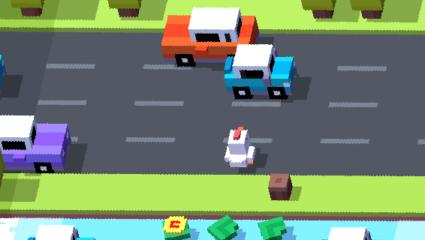hen: (225, 127, 255, 170)
obstacle: (160, 7, 260, 69), (223, 46, 296, 101), (0, 116, 70, 172), (27, 225, 97, 240), (107, 0, 142, 18), (270, 174, 293, 200), (302, 0, 335, 18), (326, 228, 374, 240), (351, 0, 383, 10), (10, 0, 45, 8), (0, 224, 15, 240), (20, 8, 42, 17), (361, 11, 383, 19)
timber: (208, 215, 239, 240), (163, 217, 190, 240), (260, 218, 287, 240)
